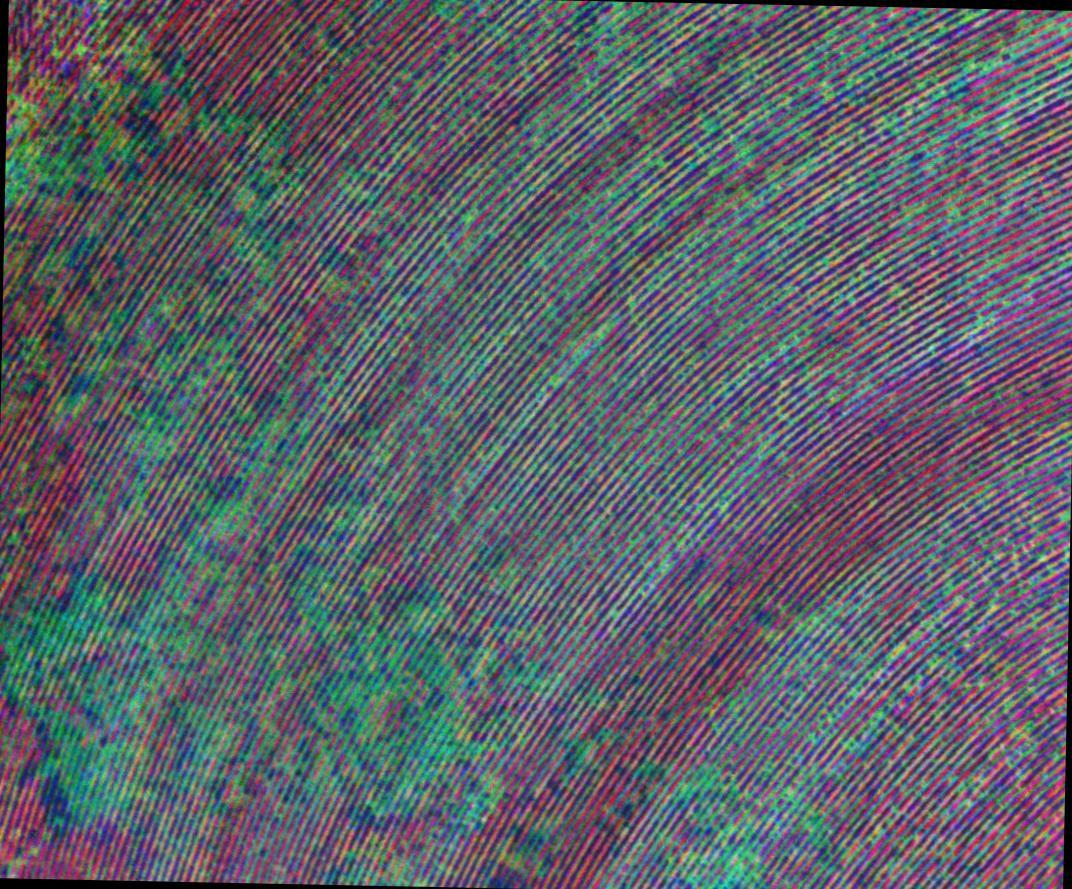dc: (360, 646, 364, 651), (321, 619, 325, 623), (463, 820, 467, 824), (655, 275, 658, 279), (591, 334, 594, 338), (274, 568, 278, 571), (687, 877, 690, 881), (553, 376, 556, 379), (447, 508, 450, 511), (330, 511, 333, 514), (263, 721, 266, 724), (212, 732, 215, 735)
